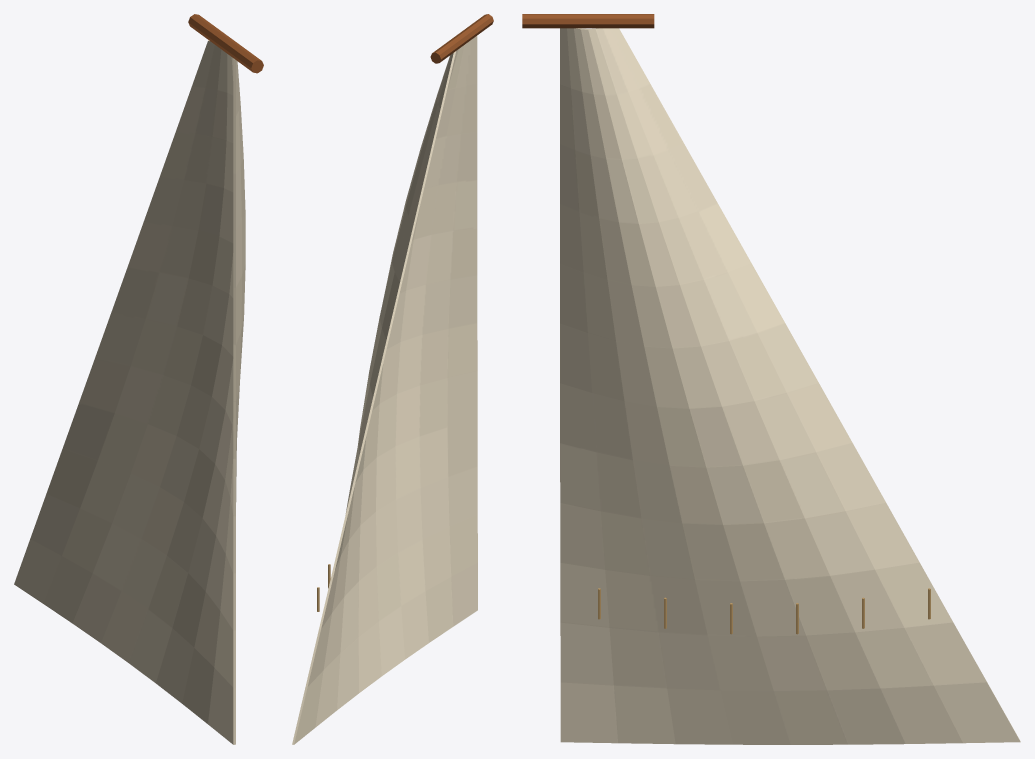
File: upgrade_canvas_mainsail.web-pbr.glb
3 renders of one model, left to right at view 1: azimuth 30°, elevation 25°; view 2: azimuth 150°, elevation 25°; view 3: azimuth 270°, elevation 25°, orthographic. The views are drawn at different scales.
Visible parts, largest first — view 1: upgrade_canvas_mainsail_mesh; view 2: upgrade_canvas_mainsail_mesh; view 3: upgrade_canvas_mainsail_mesh.
Boxes of the visible parts, left/top/right/bottom form: upgrade_canvas_mainsail_mesh: left=14, top=14, right=263, bottom=744; upgrade_canvas_mainsail_mesh: left=292, top=14, right=493, bottom=744; upgrade_canvas_mainsail_mesh: left=522, top=14, right=1020, bottom=744.
Bounding box in the file's own units: 0.5816 × 7.32 × 4.53.
Materials: 1 (1 with a texture image).
